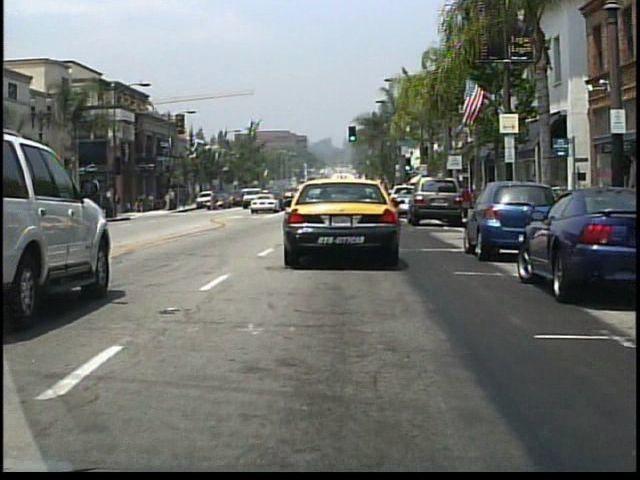person: (211, 187, 221, 212)
